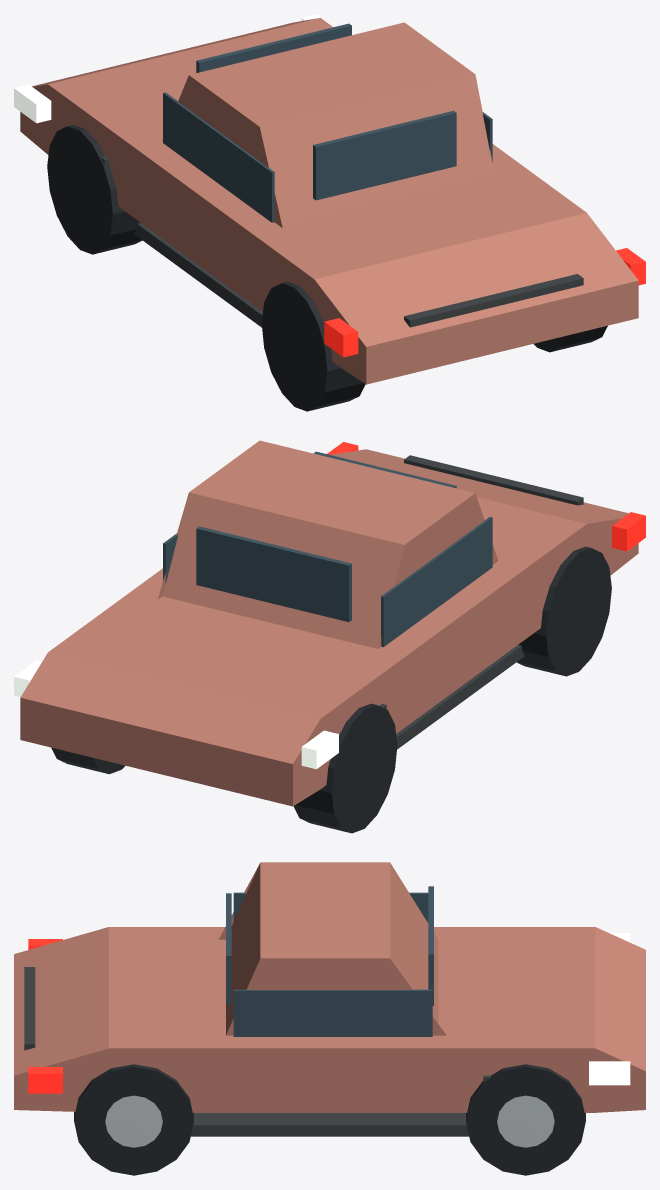
The model's file is porsche-718-cayman-2025.glb.
3 renders of one model, top to bottom at view 1: azimuth 30°, elevation 25°; view 2: azimuth 150°, elevation 25°; view 3: azimuth 270°, elevation 25°, orthographic. The views are drawn at different scales.
Parts seen in each view (by area): view 1: porsche-718-cayman-2025 illustrative model; view 2: porsche-718-cayman-2025 illustrative model; view 3: porsche-718-cayman-2025 illustrative model.
Boxes of the visible parts, x1,y1,x2,y2 form: porsche-718-cayman-2025 illustrative model: (14,14,645,411); porsche-718-cayman-2025 illustrative model: (14,440,645,833); porsche-718-cayman-2025 illustrative model: (14,862,645,1175).
Size of the model in its own units: 2.02 by 1.41 by 4.
